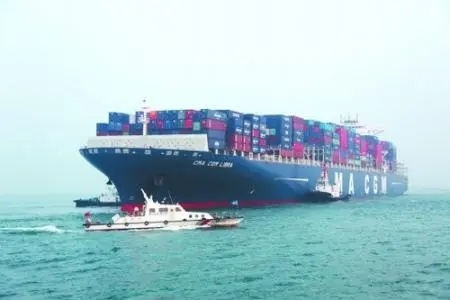Cargoship: (79, 101, 413, 210)
otherboat: (81, 194, 251, 234)
